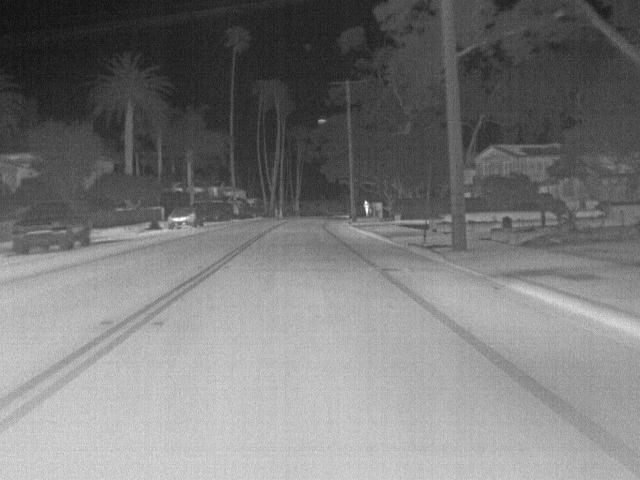car: (12, 201, 91, 253), (168, 204, 206, 229)
person: (363, 198, 371, 216)
